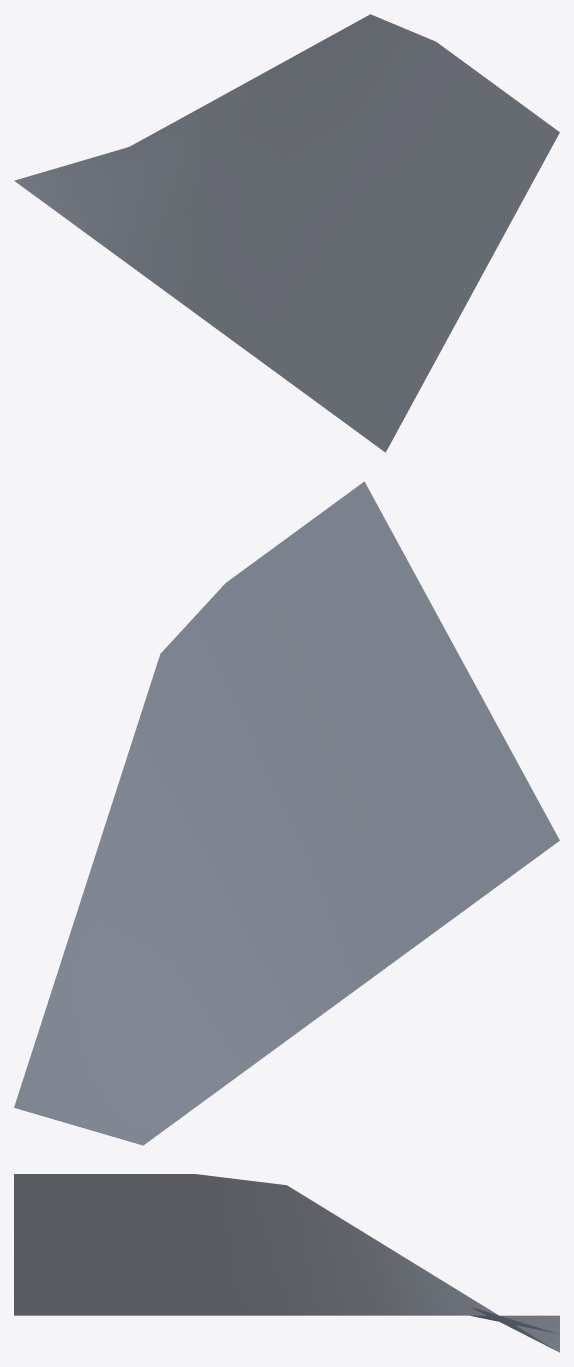
File: side_window_front_right.glb
3 views of the same model, one above another, from view 1: azimuth 30°, elevation 25°; view 2: azimuth 150°, elevation 25°; view 3: azimuth 270°, elevation 25° (orthographic). The views are drawn at different scales.
Visible parts, largest first — view 1: GEO_SideWindow_FR; view 2: GEO_SideWindow_FR; view 3: GEO_SideWindow_FR.
Part boxes in pixels (left/top/right/bottom): GEO_SideWindow_FR: left=14, top=14, right=559, bottom=452; GEO_SideWindow_FR: left=14, top=481, right=559, bottom=1145; GEO_SideWindow_FR: left=14, top=1174, right=559, bottom=1352.
Bounding box in the file's own units: 0.325 × 0.495 × 1.2.
